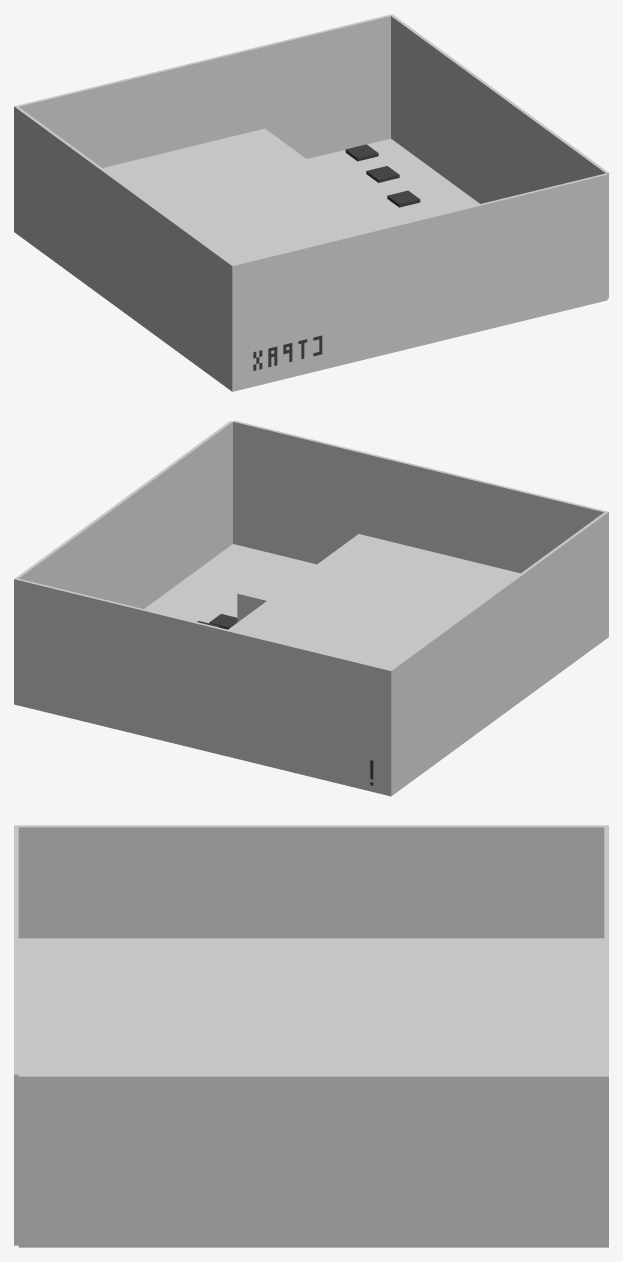
File: map.obj
3 renders of one model, top to bottom at view 1: azimuth 30°, elevation 25°; view 2: azimuth 150°, elevation 25°; view 3: azimuth 270°, elevation 25°, orthographic. The views are drawn at different scales.
Size of the model in its own units: 12.6 by 4 by 12.6.
Materials: 1 (1 with a texture image).
